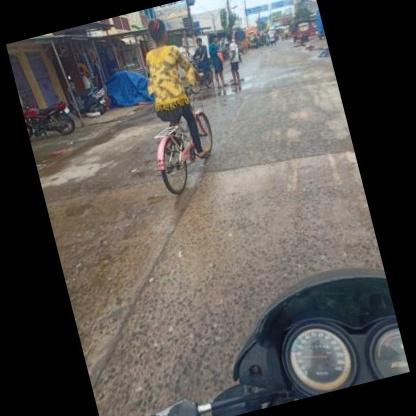Bicycle: (143, 83, 220, 194)
